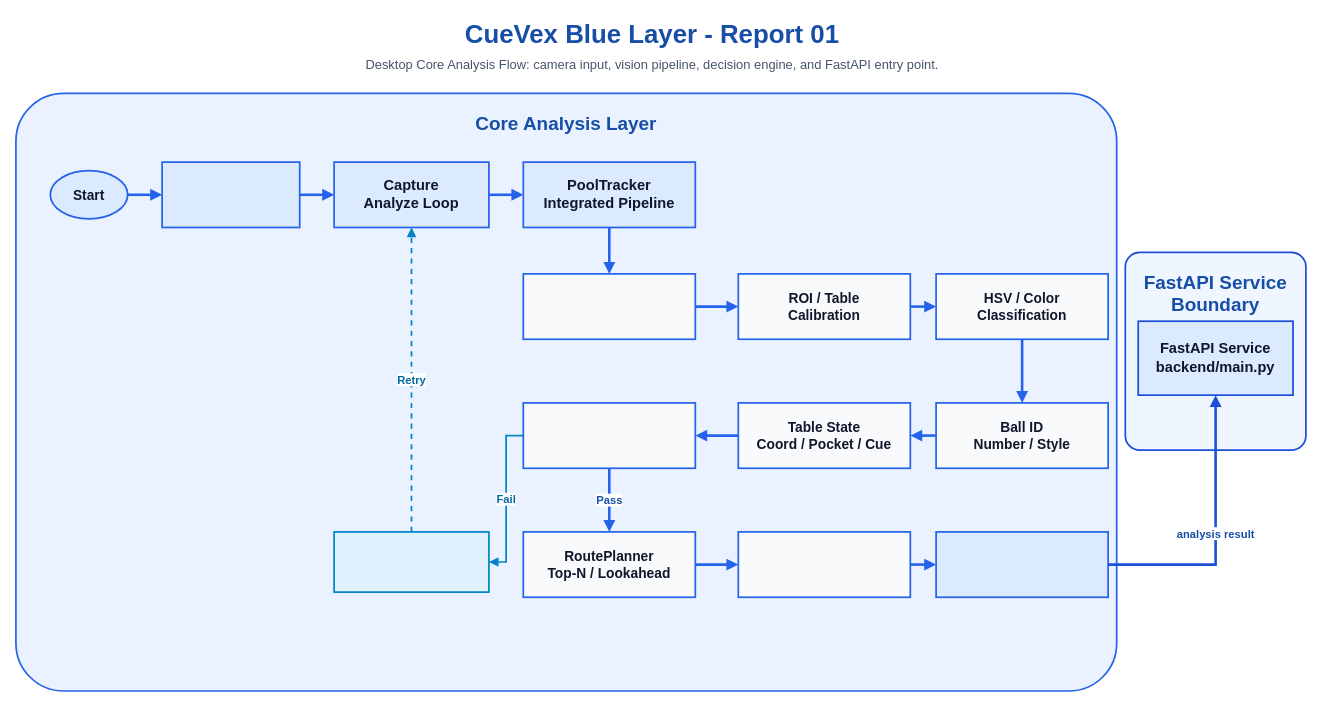
This 1321x706 diagram has some shape labels left out. The centre of each missing label's shape, as x and y in pixels:
Analysis Engine: point 1022,564
Camera Input: point 230,194
Retry Capture: point 411,562
Shot Physics Engine Angle / Collision: point 824,564
State Validation: point 609,435
YOLO + OpenCV Detection: point 609,306
